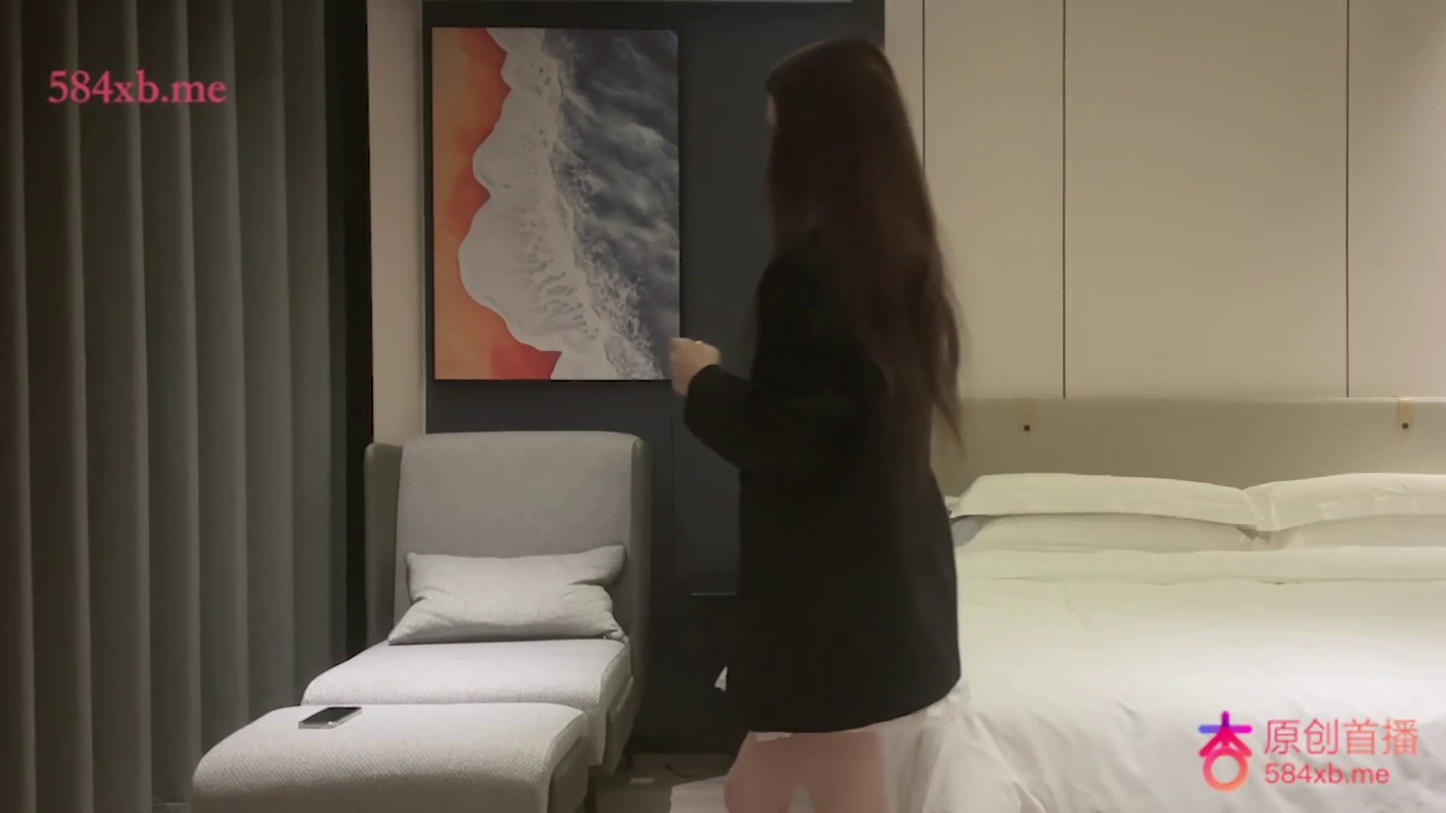stand: (667, 36, 969, 805)
